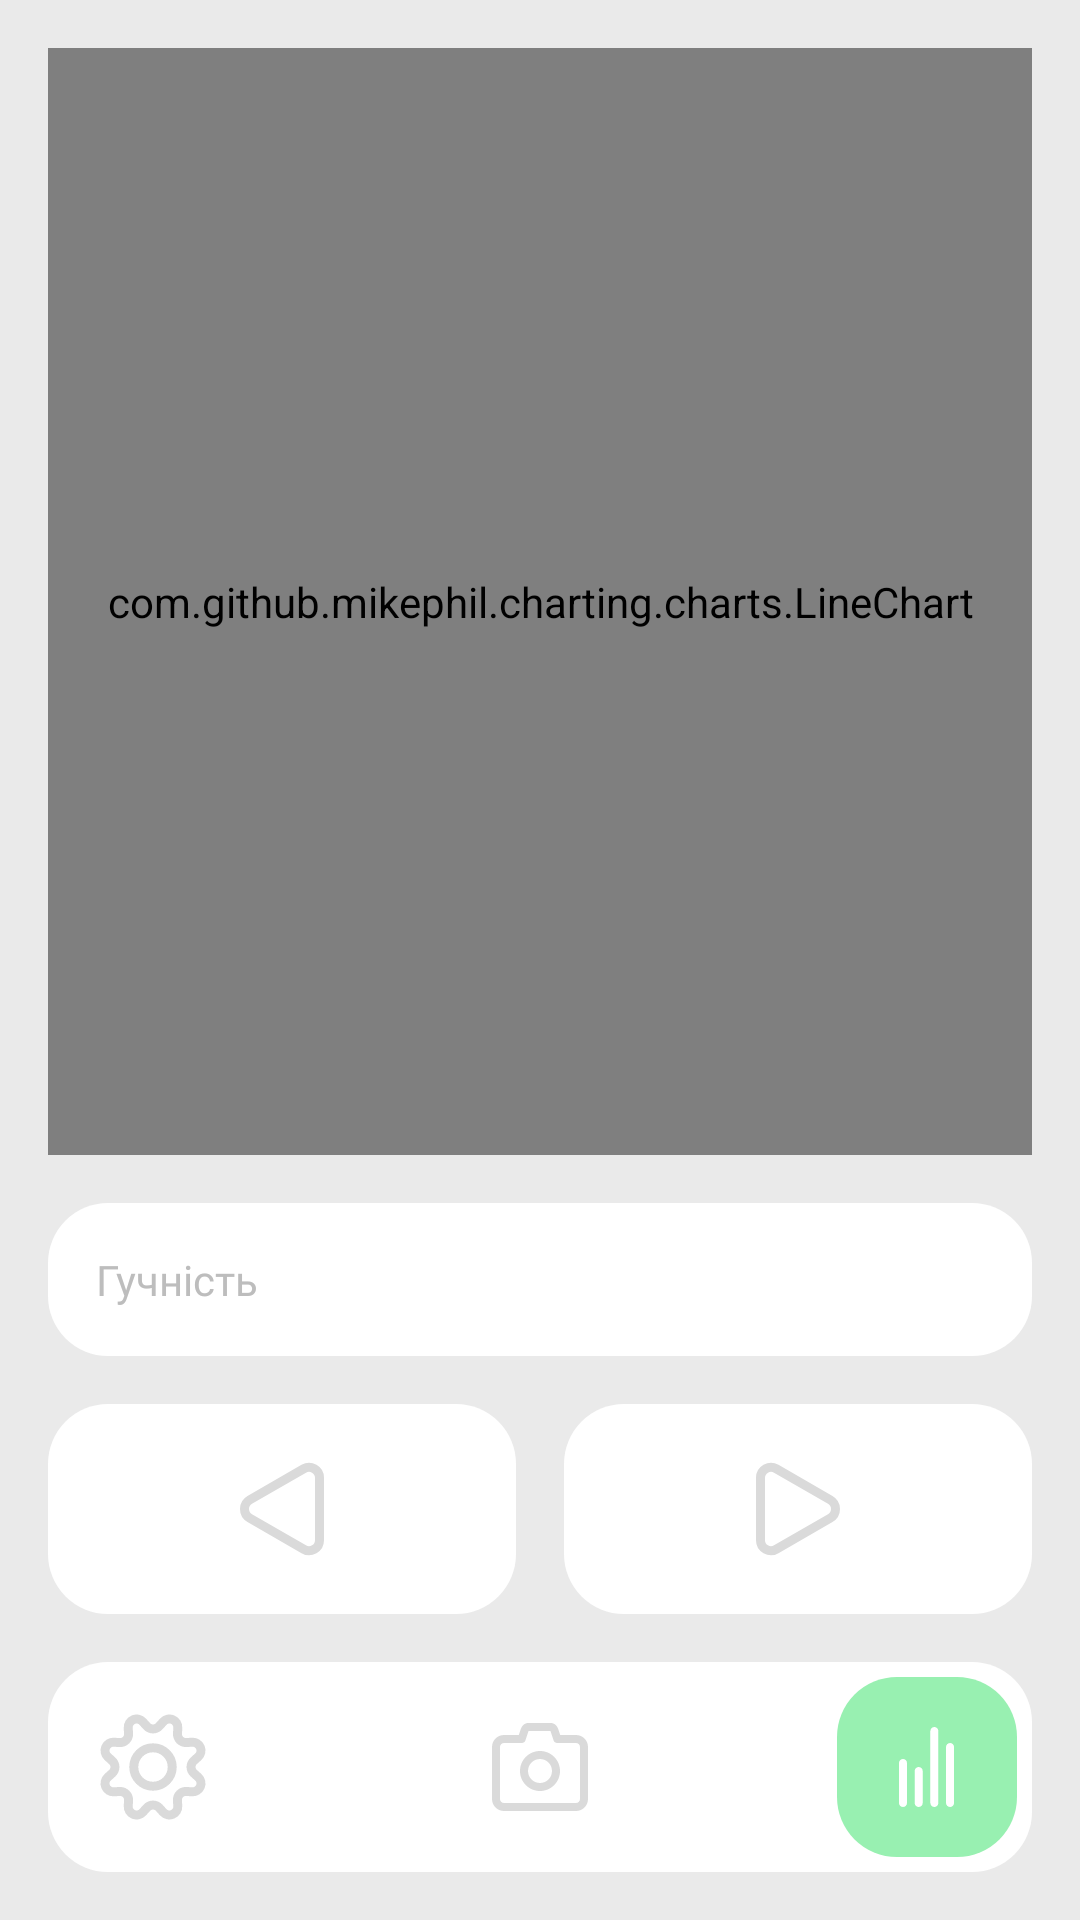

Icons on this 1080px x 1920px Android screen, each with its box as bbox=[x1, y1, x2, y2]:
camera: bbox=[492, 1723, 588, 1811]
results: bbox=[837, 1677, 1017, 1857]
